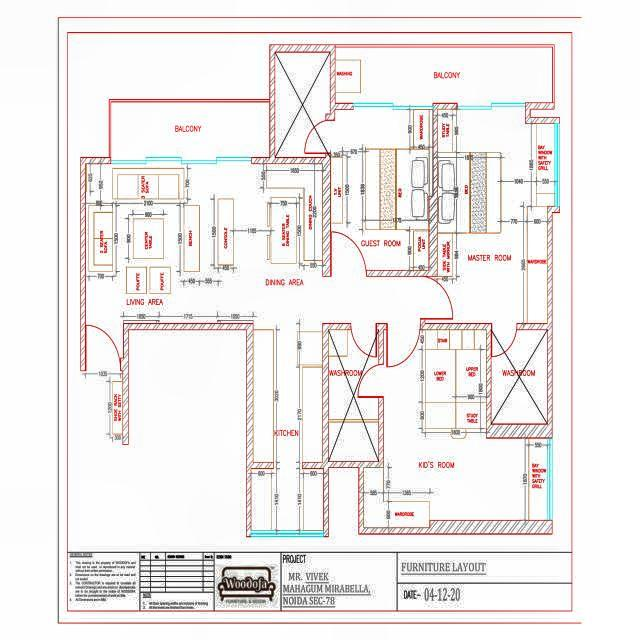room: (361, 327, 549, 529), (417, 105, 561, 331), (87, 166, 252, 322), (333, 111, 428, 268), (336, 48, 551, 103), (254, 166, 323, 320), (254, 323, 322, 461), (111, 103, 270, 157), (329, 331, 378, 461), (276, 53, 331, 157), (492, 329, 547, 424), (251, 469, 323, 531)
